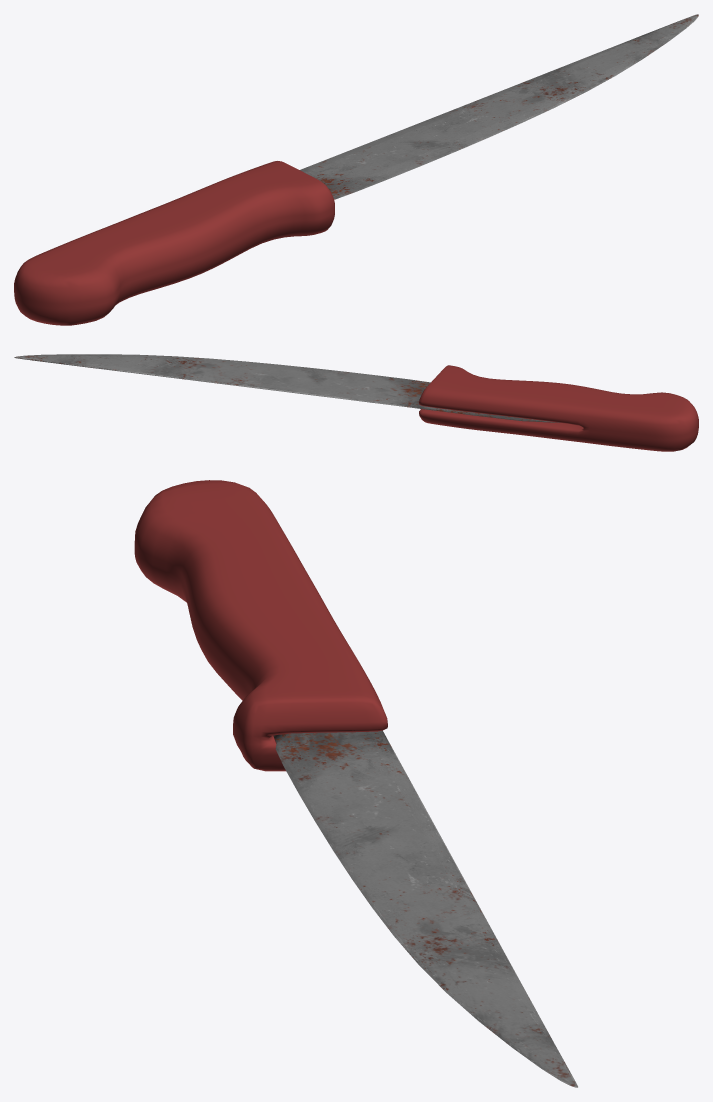
Rendered from uploads_files_3210428_untitled.fbx.
3 views of the same model, one above another, from view 1: azimuth 30°, elevation 25°; view 2: azimuth 150°, elevation 25°; view 3: azimuth 270°, elevation 25° (orthographic). The views are drawn at different scales.
Visible parts, largest first — view 1: Knife; view 2: Knife; view 3: Knife.
Boxes of the visible parts, bbox=[...] form: Knife: bbox=[14, 14, 698, 325]; Knife: bbox=[14, 354, 698, 451]; Knife: bbox=[134, 480, 577, 1087].
Size of the model in its own units: 2788 by 173 by 908.
